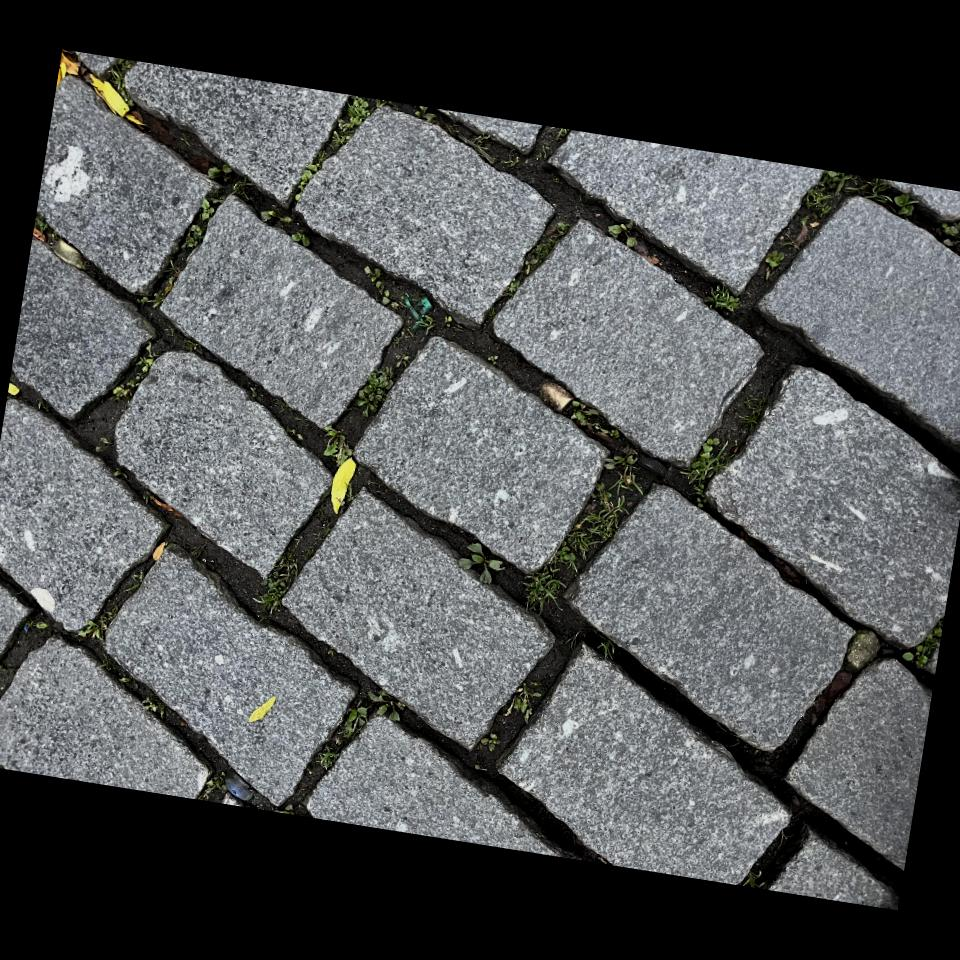weed: (210, 621, 358, 736), (622, 395, 727, 471), (573, 282, 659, 352), (316, 780, 384, 828), (209, 353, 273, 397), (406, 456, 455, 494), (99, 604, 140, 641), (355, 423, 396, 452), (102, 468, 132, 505), (85, 442, 116, 468), (53, 417, 80, 438), (523, 843, 543, 854)
